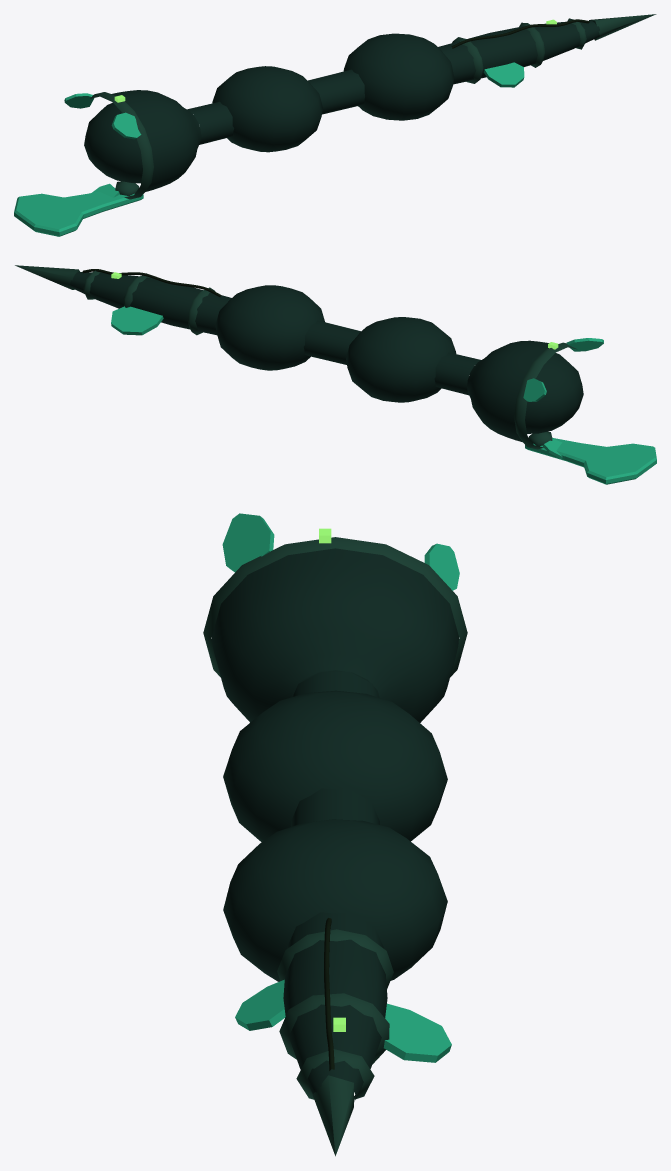
File: weaver-pelagia.glb
3 views of the same model, one above another, from view 1: azimuth 30°, elevation 25°; view 2: azimuth 150°, elevation 25°; view 3: azimuth 270°, elevation 25° (orthographic). The views are drawn at different scales.
Parts seen in each view (by area): view 1: stem, decoy_pod_0, decoy_pod_1, lay_port, drive_fluke, decoy_pod_2, lay_port_lip, trim_vane_s, leaf_tip, lay_sepal_0, stem_vein, stem_ring_2 (+2 smaller); view 2: stem, decoy_pod_1, decoy_pod_0, lay_port, drive_fluke, decoy_pod_2, lay_port_lip, trim_vane_p, leaf_tip, stem_vein, lay_sepal_1, stem_ring_2 (+1 smaller); view 3: lay_port, decoy_pod_1, decoy_pod_0, stem, lay_port_lip, trim_vane_p, lay_sepal_0, leaf_tip, stem_ring_1, trim_vane_s, stem_ring_2, stem_ring_0 (+2 smaller).
Boxes of the visible parts, left/top/right/bottom form: stem: left=187, top=20, right=599, bottom=144; decoy_pod_0: left=343, top=33, right=454, bottom=120; decoy_pod_1: left=212, top=66, right=322, bottom=152; lay_port: left=111, top=90, right=201, bottom=191; drive_fluke: left=14, top=191, right=143, bottom=236; decoy_pod_2: left=84, top=103, right=142, bottom=183; lay_port_lip: left=90, top=92, right=153, bottom=199; trim_vane_s: left=483, top=62, right=524, bottom=87; leaf_tip: left=589, top=14, right=656, bottom=40; lay_sepal_0: left=111, top=112, right=141, bottom=139; stem_vein: left=451, top=19, right=589, bottom=48; stem_ring_2: left=452, top=37, right=483, bottom=83; stem: left=70, top=272, right=480, bottom=395; decoy_pod_1: left=346, top=317, right=456, bottom=402; decoy_pod_0: left=215, top=285, right=324, bottom=370; lay_port: left=467, top=340, right=548, bottom=442; drive_fluke: left=525, top=438, right=656, bottom=484; decoy_pod_2: left=525, top=353, right=583, bottom=433; lay_port_lip: left=514, top=342, right=577, bottom=449; trim_vane_p: left=111, top=306, right=163, bottom=335; leaf_tip: left=15, top=265, right=79, bottom=289; stem_vein: left=82, top=269, right=221, bottom=296; lay_sepal_1: left=523, top=378, right=546, bottom=401; stem_ring_2: left=188, top=287, right=215, bottom=335; lay_port: left=212, top=548, right=458, bottom=722; decoy_pod_1: left=223, top=690, right=447, bottom=842; decoy_pod_0: left=223, top=819, right=447, bottom=981; stem: left=283, top=671, right=387, bottom=1101; lay_port_lip: left=203, top=537, right=467, bottom=677; trim_vane_p: left=383, top=1003, right=451, bottom=1062; lay_sepal_0: left=222, top=513, right=274, bottom=572; leaf_tip: left=312, top=1075, right=353, bottom=1156; stem_ring_1: left=279, top=993, right=389, bottom=1064; trim_vane_s: left=235, top=979, right=285, bottom=1030; stem_ring_2: left=277, top=929, right=393, bottom=988; stem_ring_0: left=296, top=1049, right=374, bottom=1099.
Size of the model in its own units: 70 by 11.33 by 12.7.
